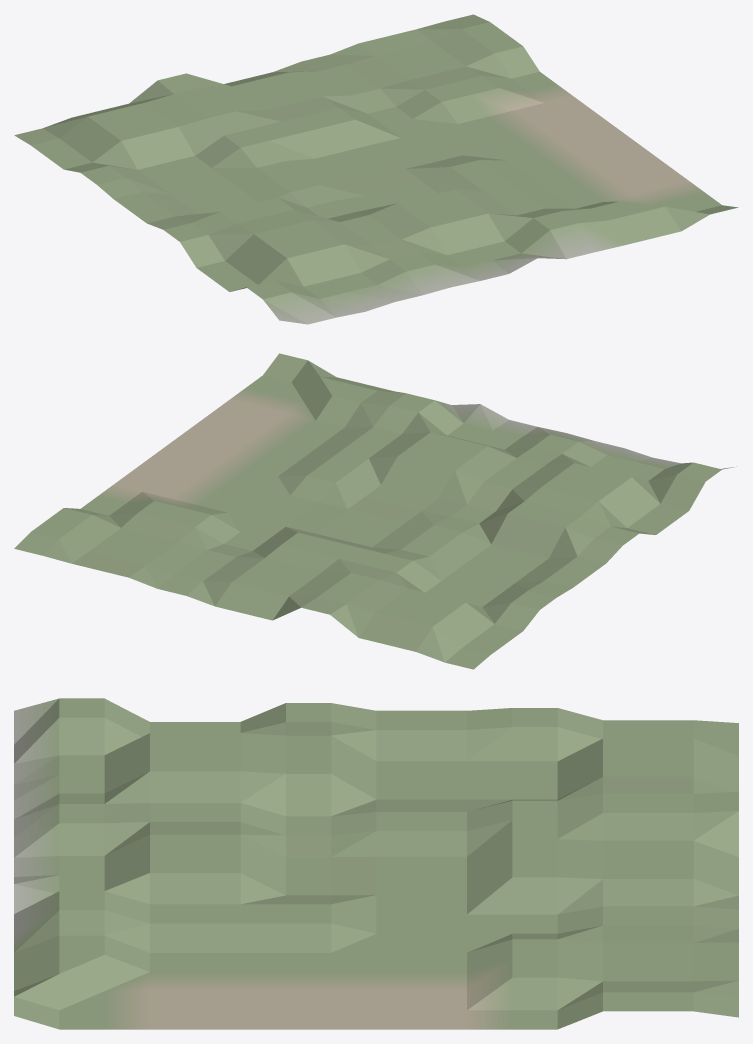
3 views of the same model, one above another, from view 1: azimuth 30°, elevation 25°; view 2: azimuth 150°, elevation 25°; view 3: azimuth 270°, elevation 25° (orthographic). The views are drawn at different scales.
Bounding box in the file's own units: 32 × 1.6 × 32.
